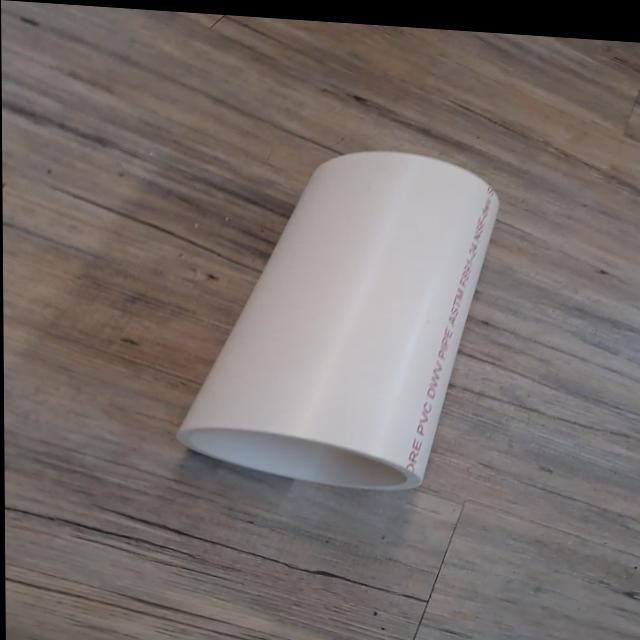CORAL: (164, 129, 511, 504)
